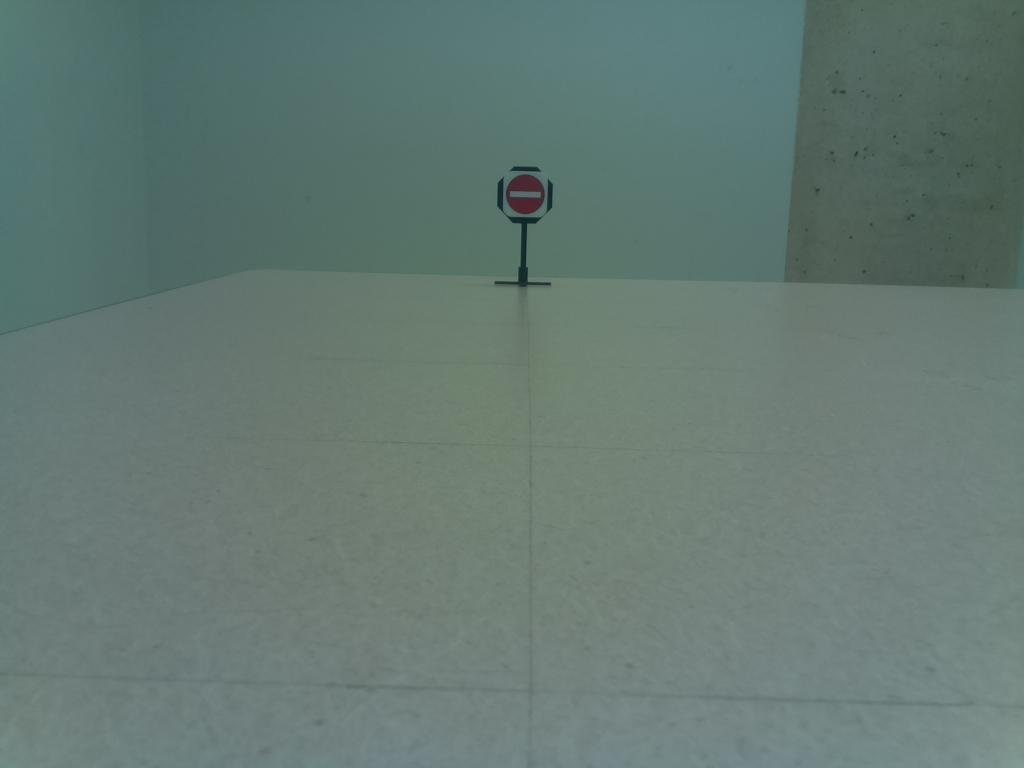sign_noentry: (492, 162, 560, 230)
